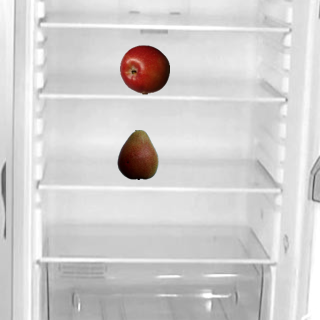Apple Braeburn: (119, 44, 169, 94)
Pear Forelle: (112, 129, 162, 179)
